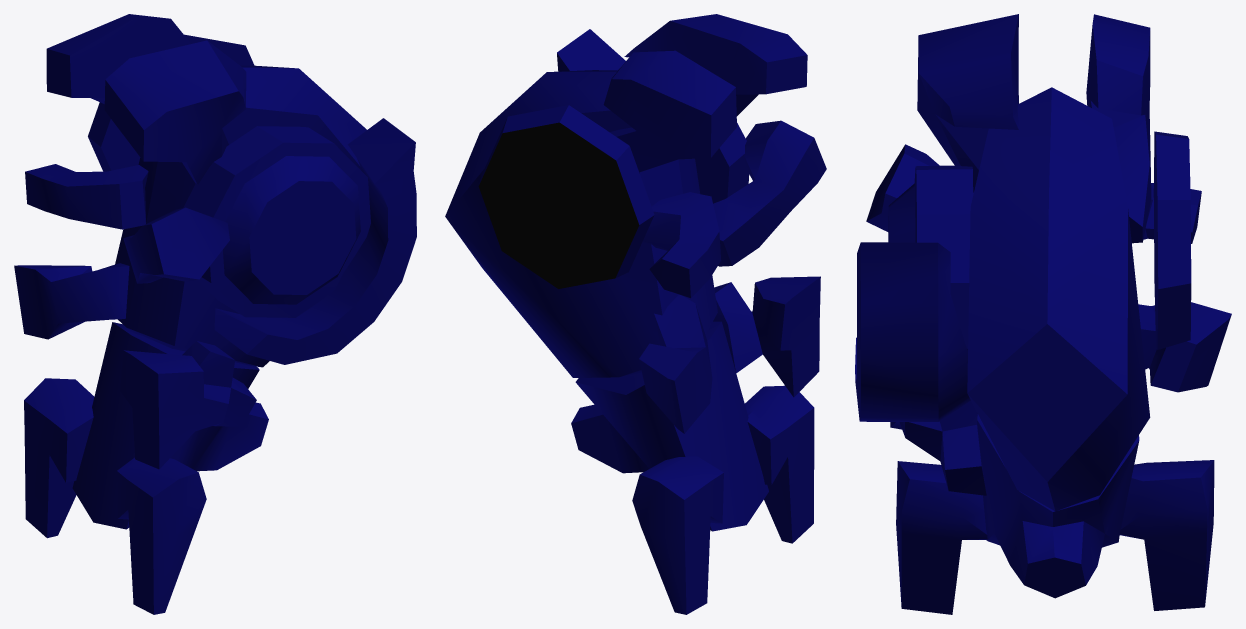
Rendered from RFoot.obj.
The picture shows the model from 3 angles, left to right: view 1: azimuth 30°, elevation 25°; view 2: azimuth 150°, elevation 25°; view 3: azimuth 270°, elevation 25°; orthographic projection. The views are drawn at different scales.
Visible parts, largest first — view 1: FootR Trailer1; view 2: FootR Trailer1; view 3: FootR Trailer1.
Boxes of the visible parts, left/top/right/bottom form: FootR Trailer1: left=14, top=14, right=416, bottom=614; FootR Trailer1: left=445, top=14, right=826, bottom=614; FootR Trailer1: left=855, top=14, right=1231, bottom=614.
Bounding box in the file's own units: 143 × 259 × 143.
